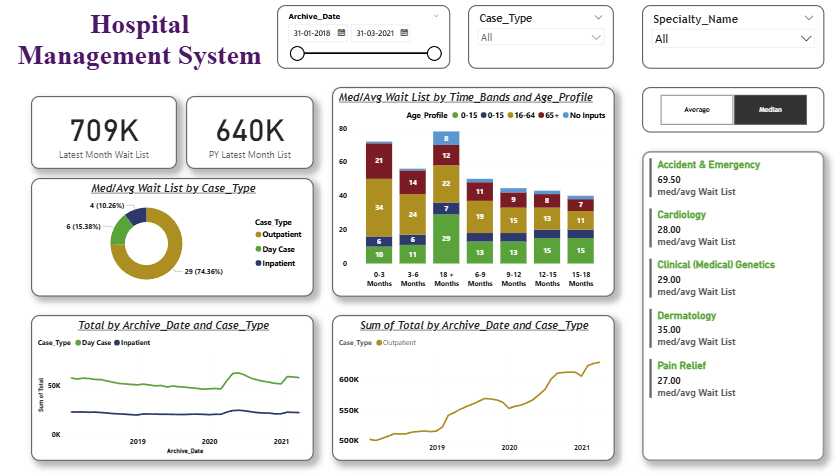

Layout of this report page (visuals, bound fields, positions):
{"tool":"powerbi","page":{"name":"Summary","canvas":[1500,850],"ordinal":0},"visuals":[{"type":"card","fields":{"Values":["All Data.Latest Month Wait List"]},"box":[80,176,256,128],"z":0},{"type":"card","fields":{"Values":["All Data.PY Latest Month List"]},"box":[352,176,224,128],"z":1000},{"type":"slicer","fields":{"Values":["Calculation Method.Calc method"]},"box":[1152,160,320,80],"z":2000},{"type":"donutChart","title":"Med/Avg Wait List by Case_Type","fields":{"Category":["All Data.Case_Type"],"Y":["All Data.med/avg Wait List"]},"box":[80,320,496,208],"z":3000},{"type":"columnChart","title":"Med/Avg Wait List by Time_Bands and Age_Profile","fields":{"Y":["All Data.med/avg Wait List"],"Category":["All Data.Time_Bands"],"Series":["All Data.Age_Profile"]},"box":[608,160,496,368],"z":4000},{"type":"multiRowCard","fields":{"Values":["All Data.Specialty_Name","All Data.med/avg Wait List"]},"box":[1152,272,320,544],"z":5000},{"type":"lineChart","title":"Total by Archive_Date and Case_Type","fields":{"Category":["All Data.Archive_Date"],"Y":["Sum(All Data.Total)"],"Series":["All Data.Case_Type"]},"box":[80,560,496,256],"z":6000},{"type":"lineChart","fields":{"Category":["All Data.Archive_Date"],"Y":["Sum(All Data.Total)"],"Series":["All Data.Case_Type"]},"box":[608,560,496,256],"z":7000},{"type":"slicer","fields":{"Values":["All Data.Archive_Date"]},"box":[512,16,304,112],"z":8000},{"type":"slicer","fields":{"Values":["All Data.Case_Type"]},"box":[848,16,256,112],"z":9000},{"type":"slicer","fields":{"Values":["All Data.Specialty_Name"]},"box":[1152,16,320,112],"z":10000},{"type":"textbox","box":[48,16,448,144],"z":11000}]}

Visuals, with their boxes in screenshot pixels (x1, y1, x2, y2), scaled from the page's 1500x850 canvas onto the 836x475 screenshot:
card - All Data.Latest Month Wait List: BBox(45, 98, 187, 170)
card - All Data.PY Latest Month List: BBox(196, 98, 321, 170)
slicer - Calculation Method.Calc method: BBox(642, 89, 820, 134)
"Med/Avg Wait List by Case_Type" donutChart: BBox(45, 179, 321, 295)
"Med/Avg Wait List by Time_Bands and Age_Profile" columnChart: BBox(339, 89, 615, 295)
multiRowCard - All Data.Specialty_Name x All Data.med/avg Wait List: BBox(642, 152, 820, 456)
"Total by Archive_Date and Case_Type" lineChart: BBox(45, 313, 321, 456)
lineChart - All Data.Archive_Date x Sum(All Data.Total): BBox(339, 313, 615, 456)
slicer - All Data.Archive_Date: BBox(285, 9, 455, 72)
slicer - All Data.Case_Type: BBox(473, 9, 615, 72)
slicer - All Data.Specialty_Name: BBox(642, 9, 820, 72)
textbox: BBox(27, 9, 276, 89)
